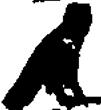Owl: (2, 2, 101, 110)
